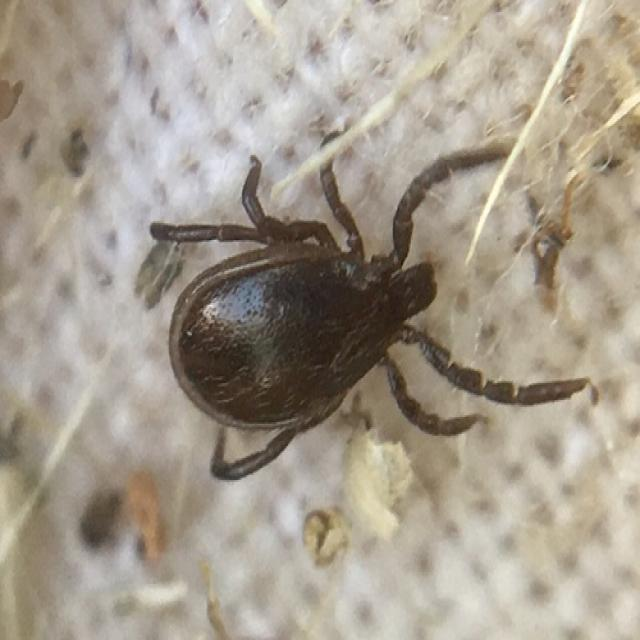Ixodes Ricinus-M: (151, 145, 593, 483)
